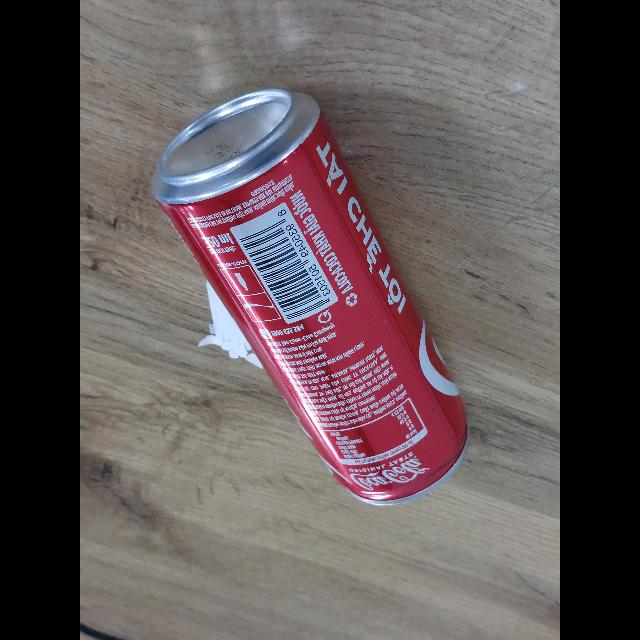coca_cola: (150, 85, 469, 506)
